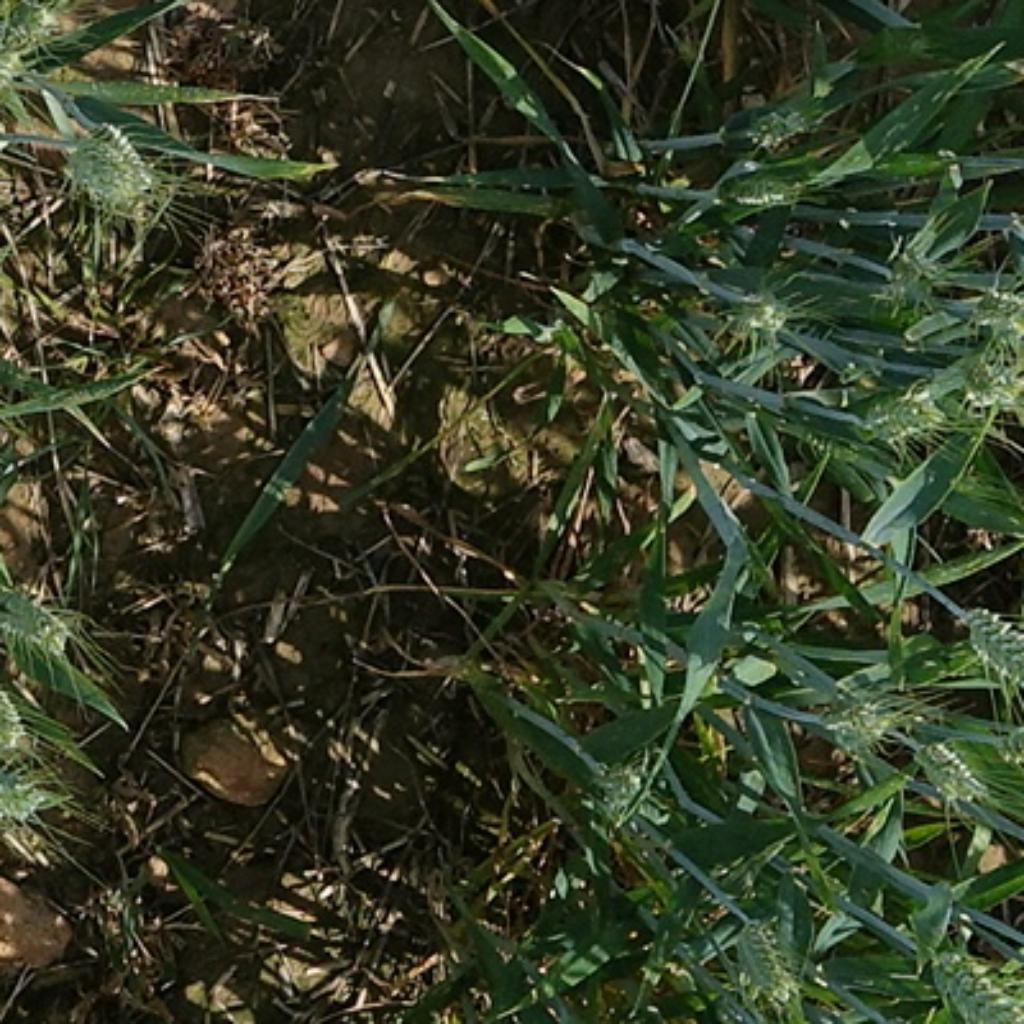0-0: (593, 755, 693, 867), (62, 117, 167, 219), (726, 895, 813, 1016), (908, 936, 1018, 1024), (688, 161, 852, 220), (0, 573, 86, 673), (0, 0, 88, 95), (931, 602, 1024, 684), (722, 87, 826, 160), (820, 680, 907, 762), (920, 745, 1004, 822), (858, 391, 951, 460), (871, 246, 948, 328), (0, 760, 61, 859), (716, 279, 799, 347), (961, 343, 1024, 423), (789, 417, 872, 477), (0, 686, 58, 763), (969, 273, 1024, 343)
